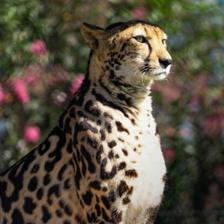Cheetah: (0, 18, 174, 224)
